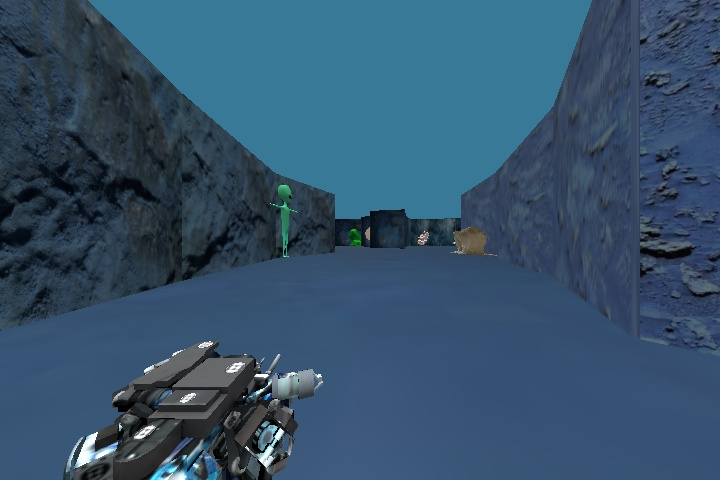formation: (449, 223, 490, 257)
green_alien: (265, 176, 306, 262)
green_crystal: (343, 224, 363, 249)
mushrooms: (412, 227, 432, 246)
